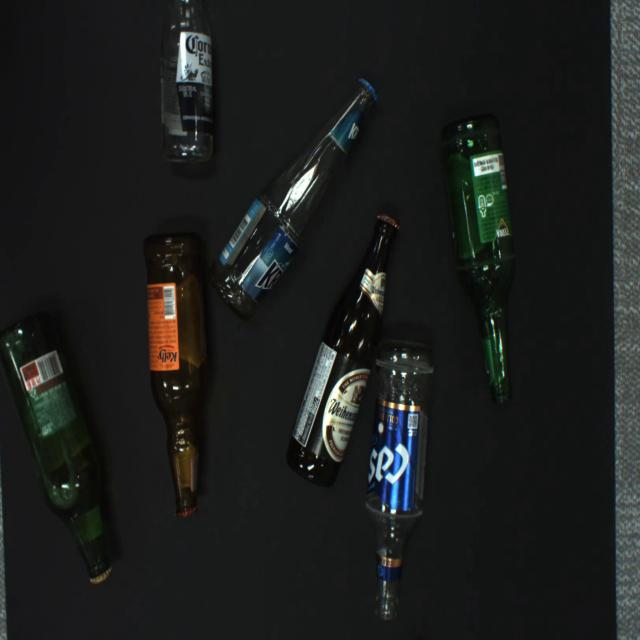beer-bottle: (209, 78, 377, 320), (286, 213, 399, 487), (0, 312, 113, 585), (441, 113, 516, 403), (366, 338, 435, 620), (144, 233, 210, 518), (160, 0, 212, 164)
